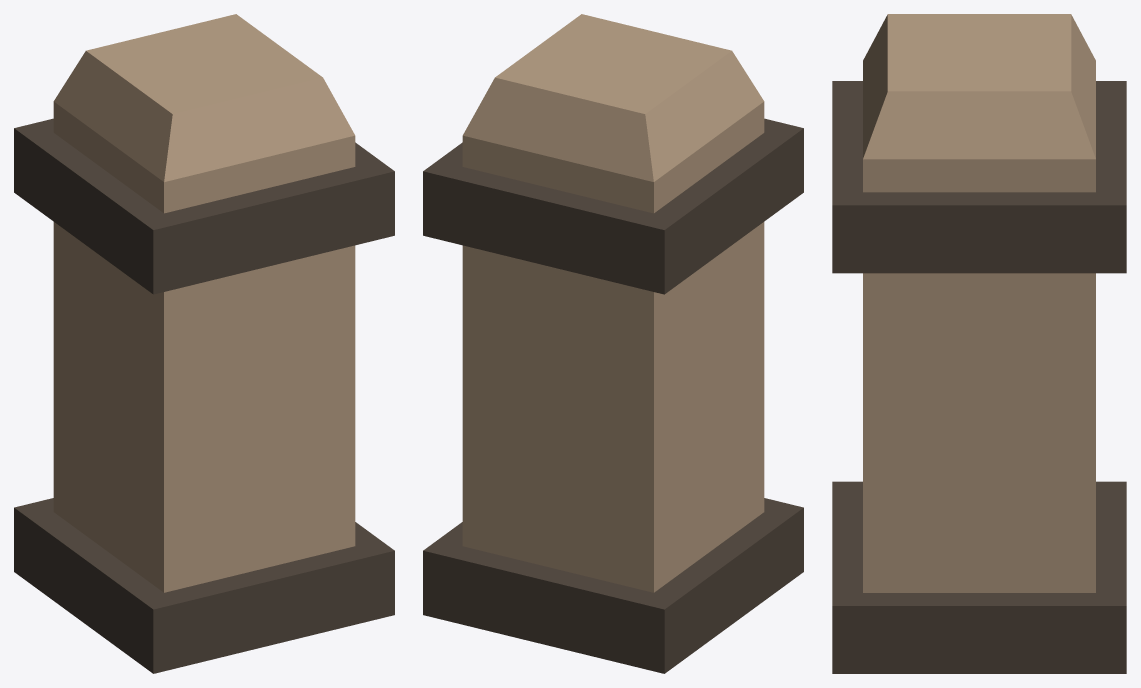
File: Fence_Corner.gltf
3 views of the same model, side by side, from view 1: azimuth 30°, elevation 25°; view 2: azimuth 150°, elevation 25°; view 3: azimuth 270°, elevation 25° (orthographic). The views are drawn at different scales.
Visible parts, largest first — view 1: Fence_Corner; view 2: Fence_Corner; view 3: Fence_Corner.
Boxes of the visible parts, <box> form: Fence_Corner: <box>14,14,394,673</box>; Fence_Corner: <box>423,14,803,673</box>; Fence_Corner: <box>832,14,1126,673</box>.
Size of the model in its own units: 0.4384 by 0.9187 by 0.4384.
1 material, 1 textured.
